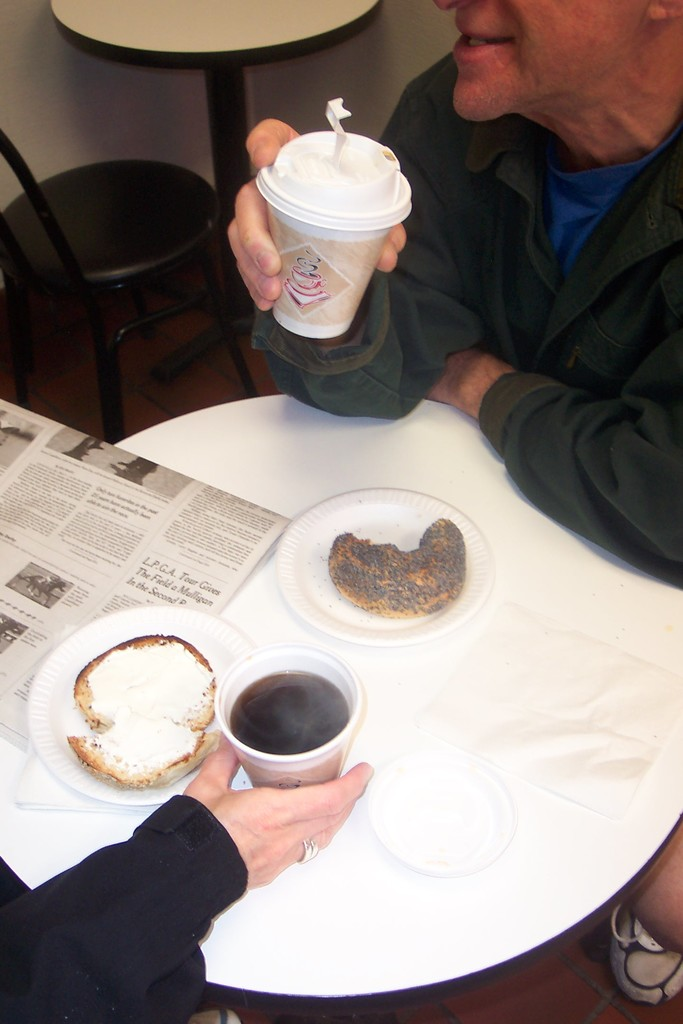plate: (276, 491, 493, 639)
